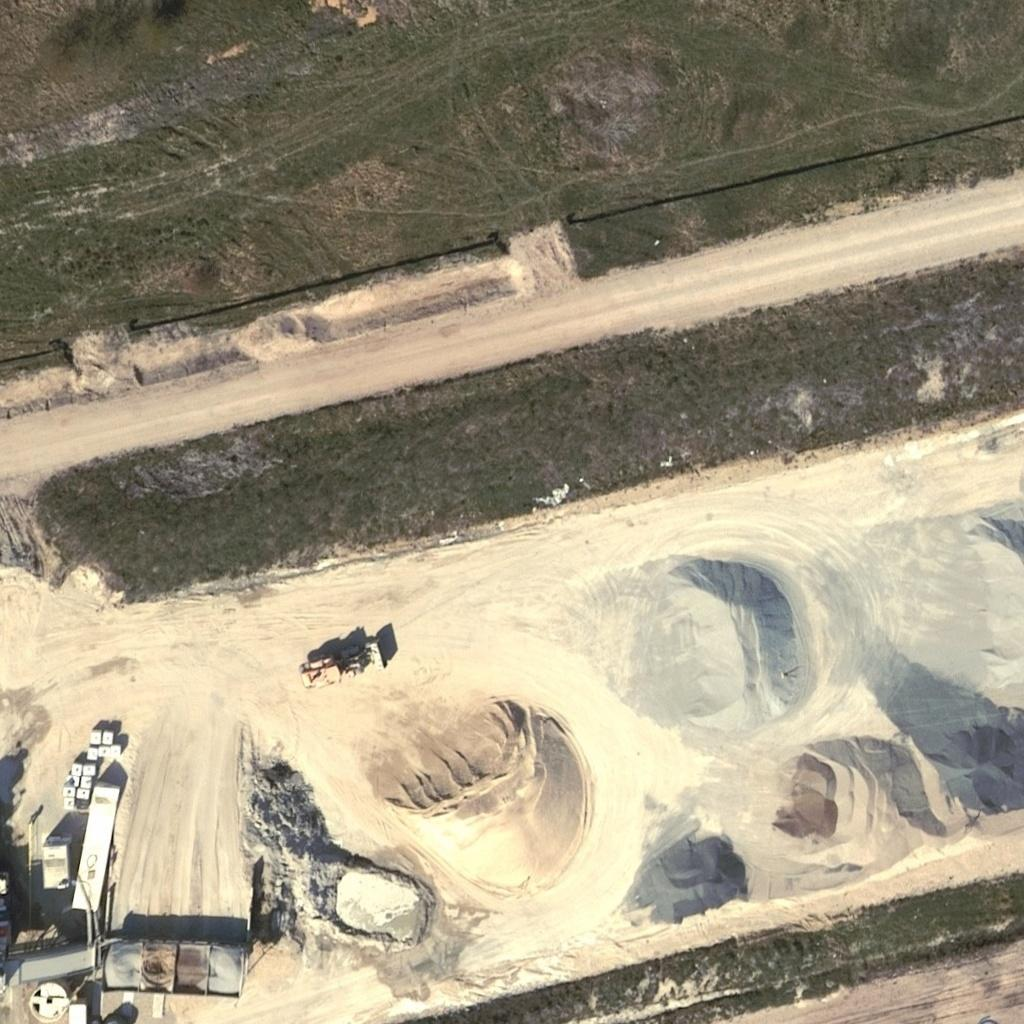spychacz: (295, 639, 395, 691)
